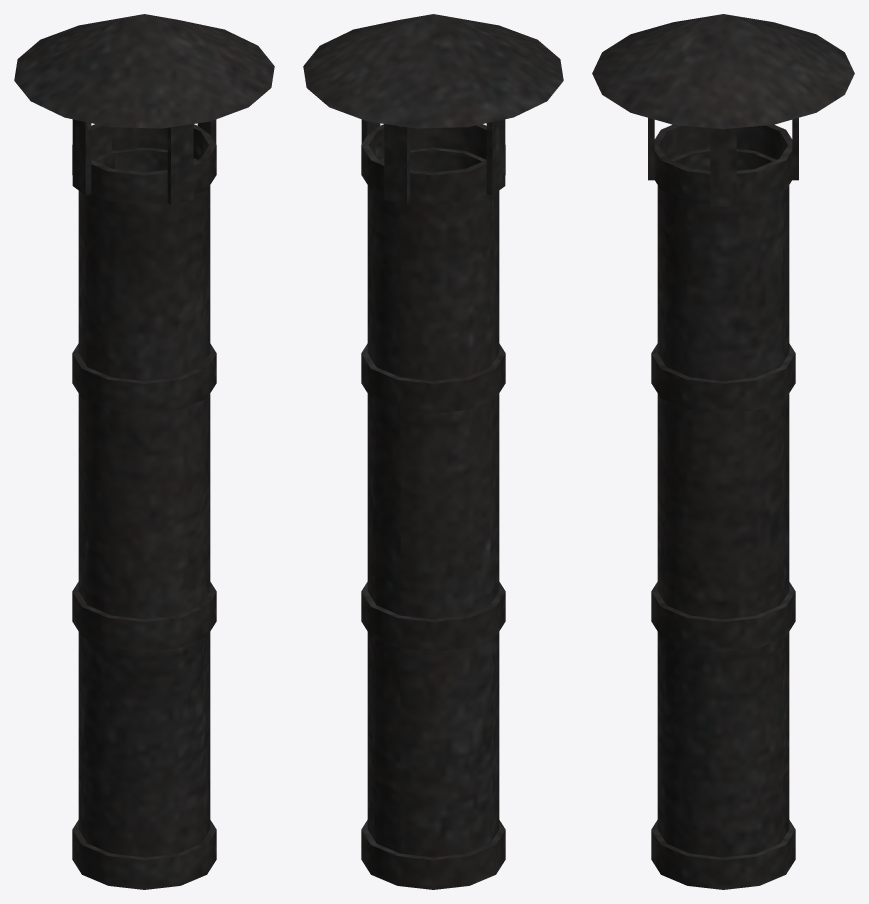
The model's file is chimney_a_2.dae.
3 renders of one model, left to right at view 1: azimuth 30°, elevation 25°; view 2: azimuth 150°, elevation 25°; view 3: azimuth 270°, elevation 25°, orthographic.
Parts seen in each view (by area): view 1: chimney_a_2; view 2: chimney_a_2; view 3: chimney_a_2.
Boxes of the visible parts, box(x1,y1,x2,y2) form: chimney_a_2: box(14, 14, 274, 889); chimney_a_2: box(303, 14, 563, 889); chimney_a_2: box(592, 14, 854, 889).
Size of the model in its own units: 0.4 by 0.4 by 1.42.
Materials: 1 (1 with a texture image).
